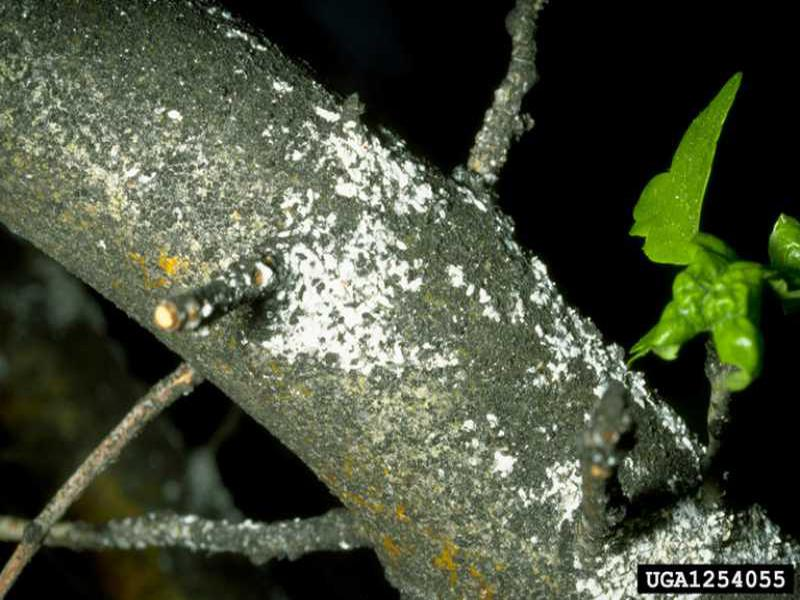Mealy_bug: (279, 130, 449, 397)
